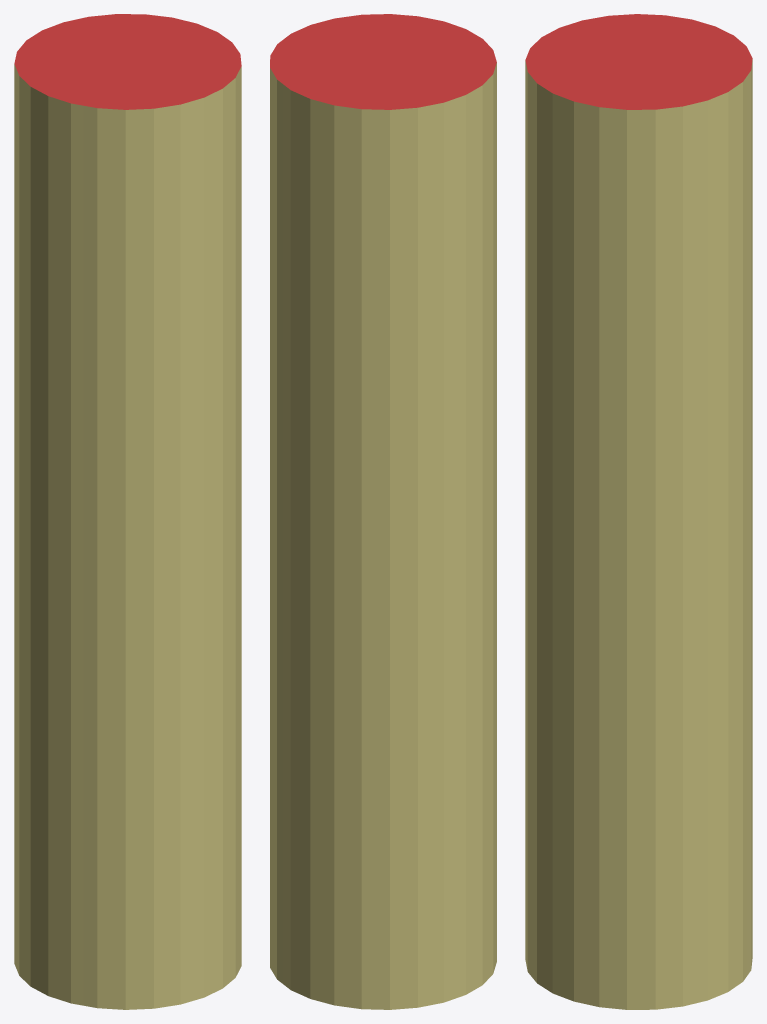
3 renders of one model, left to right at view 1: azimuth 30°, elevation 25°; view 2: azimuth 150°, elevation 25°; view 3: azimuth 270°, elevation 25°, orthographic.
Bounding box in the file's own units: 2.62 × 2.62 × 11.47.
